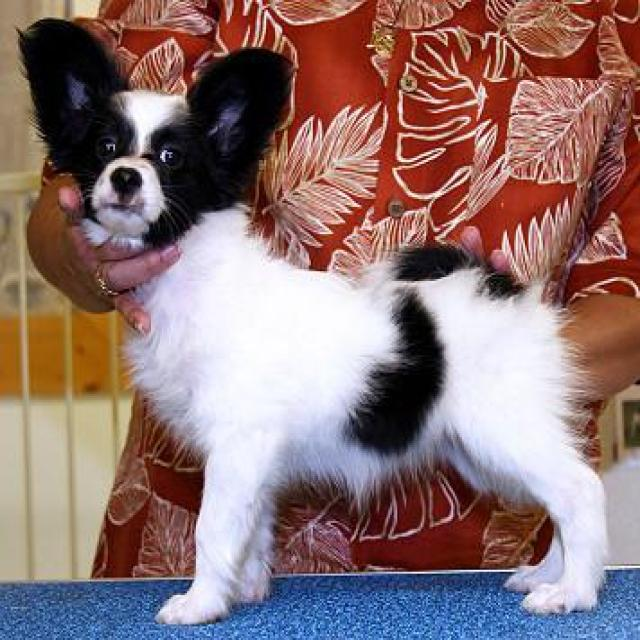papillon: (20, 16, 608, 630)
